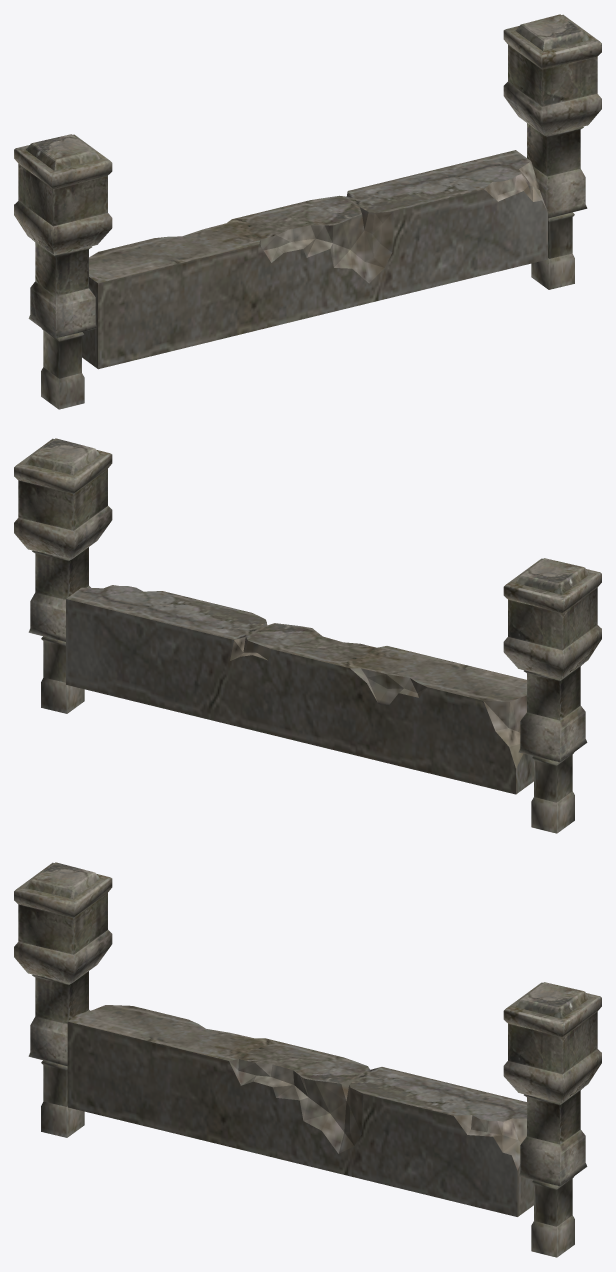
Rendered from bg_anh_mirrorv_dp02_sm_phs.FBX.
3 views of the same model, one above another, from view 1: azimuth 30°, elevation 25°; view 2: azimuth 150°, elevation 25°; view 3: azimuth 330°, elevation 25° (orthographic).
Parts seen in each view (by area): view 1: bg_anh_mirrorv_dp02_sm_phs; view 2: bg_anh_mirrorv_dp02_sm_phs; view 3: bg_anh_mirrorv_dp02_sm_phs.
Part boxes in pixels (<box>): bg_anh_mirrorv_dp02_sm_phs: <box>14,14,601,409</box>; bg_anh_mirrorv_dp02_sm_phs: <box>14,438,601,833</box>; bg_anh_mirrorv_dp02_sm_phs: <box>14,862,601,1257</box>.
Size of the model in its own units: 216 by 95.14 by 26.16.
